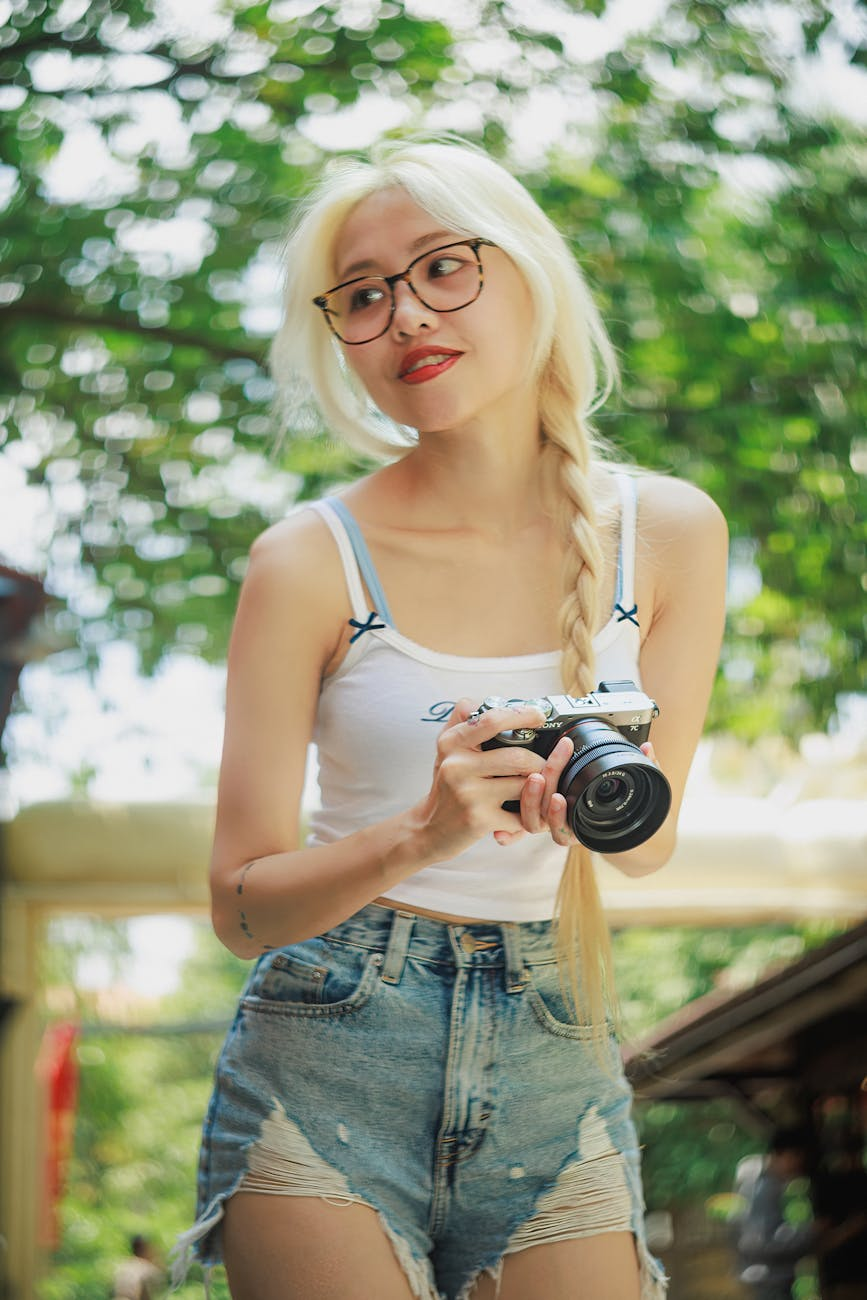crop_top: (277, 459, 660, 852)
shorts: (200, 904, 669, 1249)
